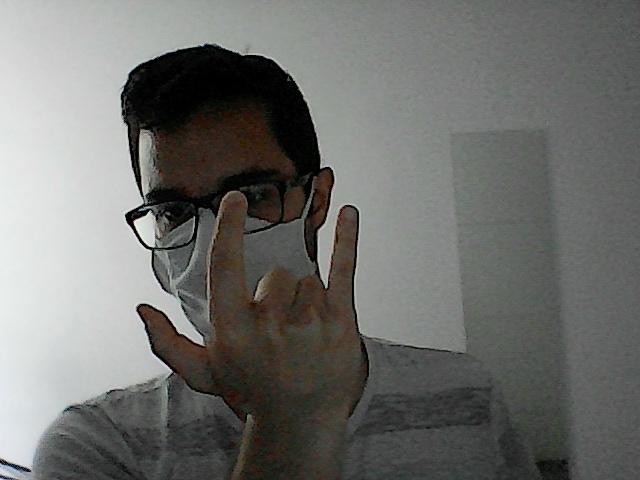shoot: (127, 182, 376, 422)
